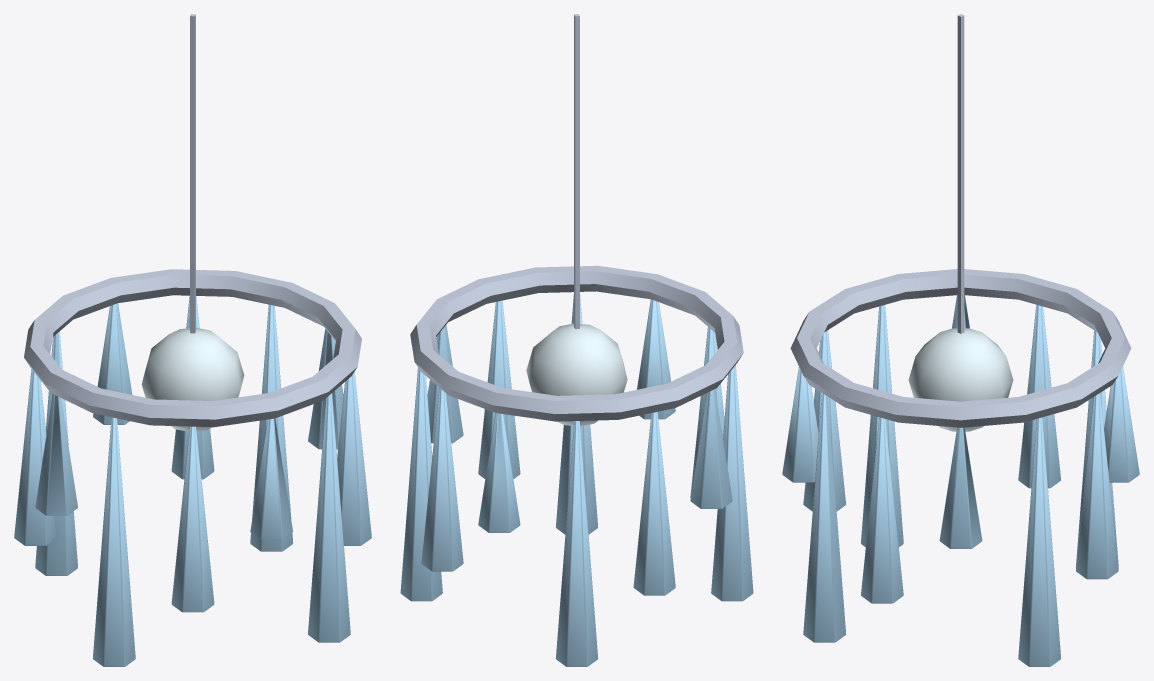
Rendered from HangIce.fbx.
3 renders of one model, left to right at view 1: azimuth 30°, elevation 25°; view 2: azimuth 150°, elevation 25°; view 3: azimuth 270°, elevation 25°, orthographic.
Parts seen in each view (by area): view 1: HangIce; view 2: HangIce; view 3: HangIce.
Boxes of the visible parts, x1,y1,x2,y2 form: HangIce: (14,14,371,666); HangIce: (400,14,753,666); HangIce: (782,14,1139,666).
Bounding box in the file's own units: 403 × 740 × 409.
